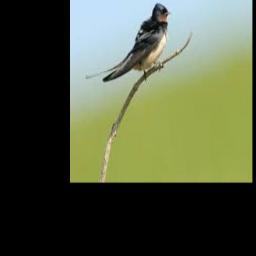Swallow: (86, 3, 170, 83)
